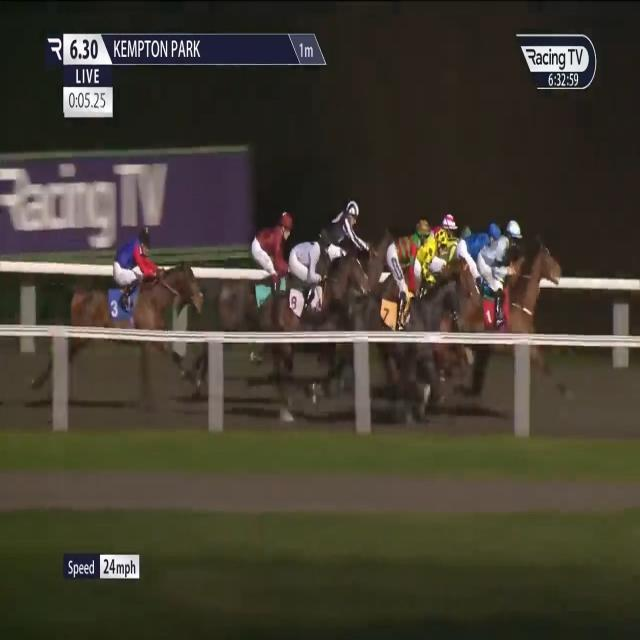horses-racing: (78, 225, 202, 355), (462, 227, 555, 354), (383, 218, 438, 369), (239, 210, 296, 330), (281, 220, 338, 340), (446, 216, 504, 294), (420, 202, 462, 293), (328, 200, 379, 272)
